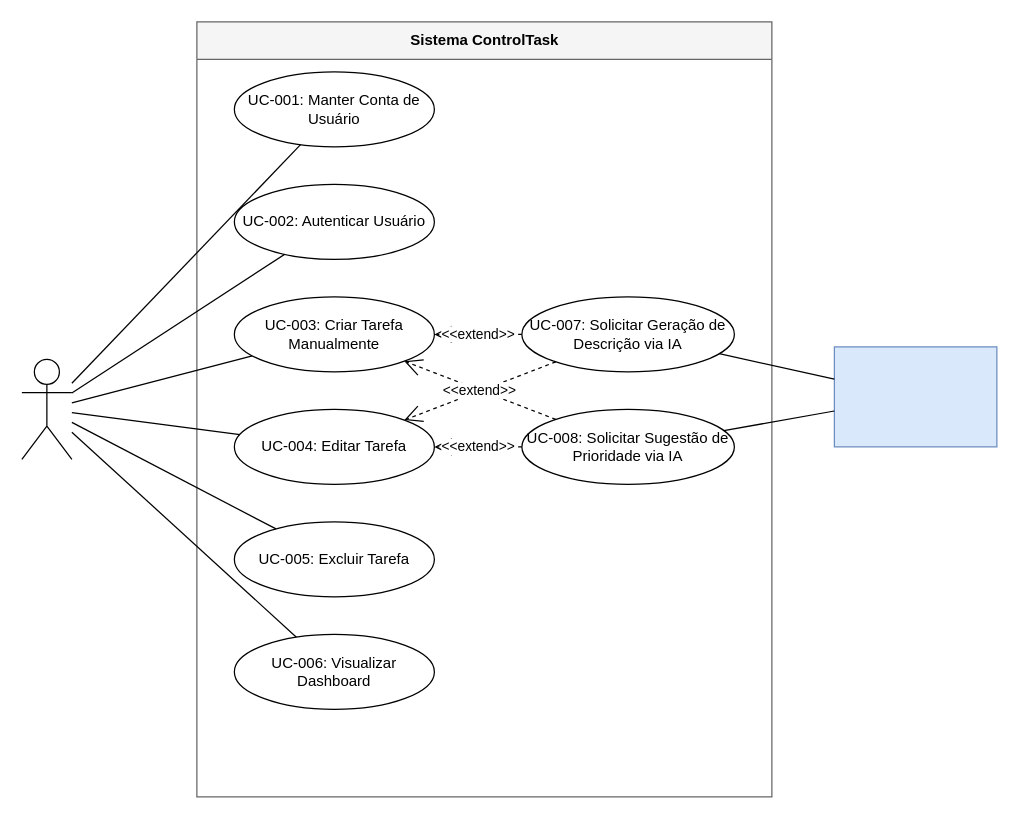
Some shapes in this 1019 by 819 pixel diagram are drawn without their labels. Here are the shapes that lost their labels. From the top down, the centre of each, then its label:
At pixel 46 408: "Usuário".
At pixel 915 396: "<<Sistema Externo>> Provedor de IA".
